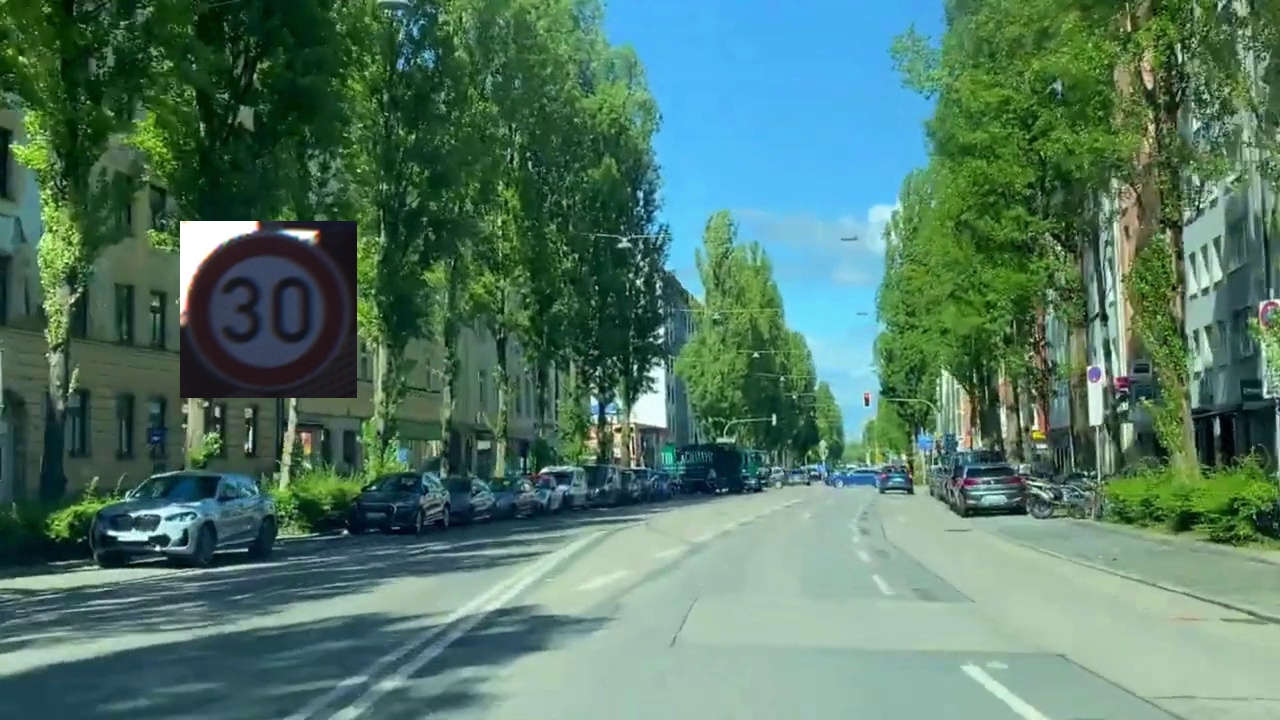Speed 30: (180, 221, 357, 398)
